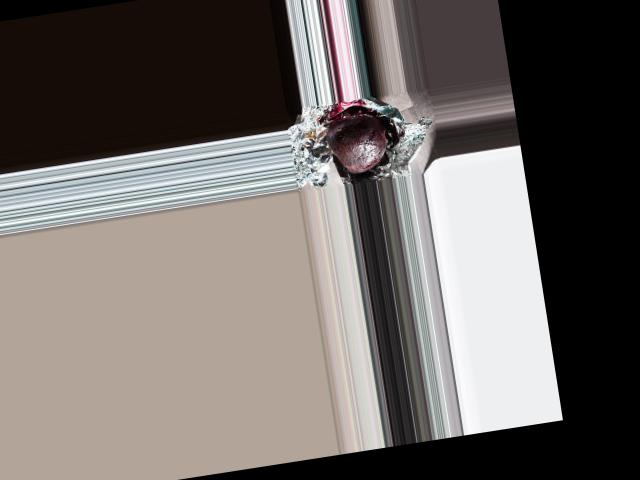beet: (323, 112, 391, 177)
